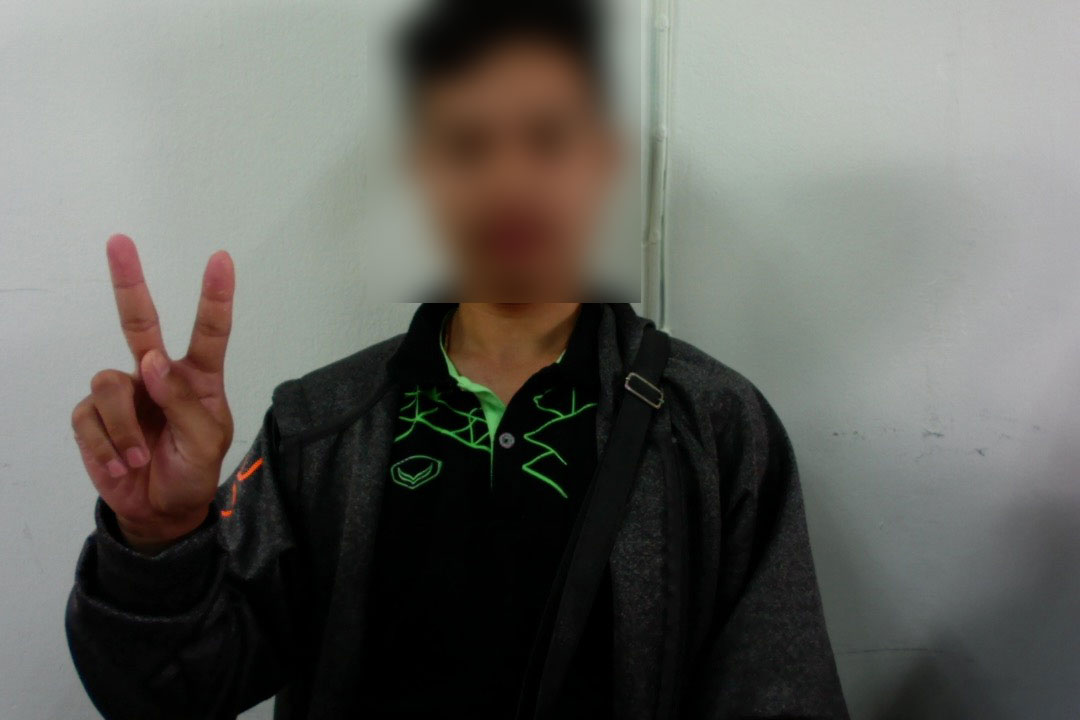ko: (66, 229, 246, 548)
